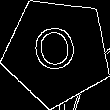O_S: (31, 22, 83, 81)
